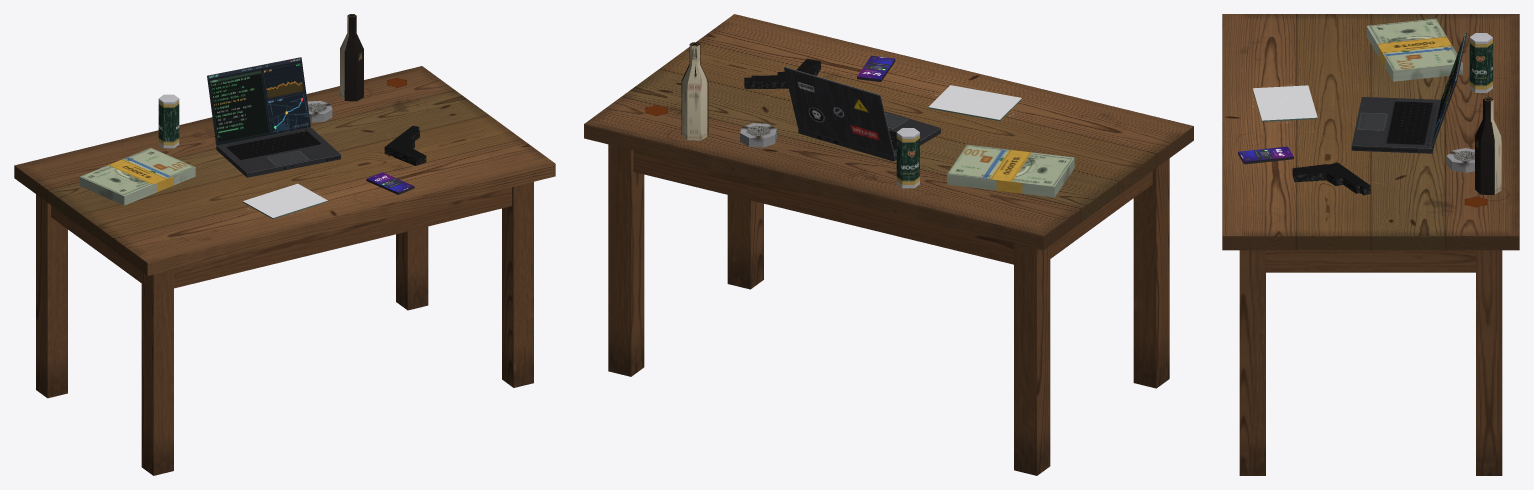
File: pulse_crime_table_lod2.fbx
The picture shows the model from 3 angles, left to right: view 1: azimuth 30°, elevation 25°; view 2: azimuth 150°, elevation 25°; view 3: azimuth 270°, elevation 25°; orthographic projection. The views are drawn at different scales.
Parts seen in each view (by area): view 1: pulse_crime_table_lod2; view 2: pulse_crime_table_lod2; view 3: pulse_crime_table_lod2.
Part boxes in pixels (box(x1,y1,x2,y2)): pulse_crime_table_lod2: box(14, 14, 555, 475); pulse_crime_table_lod2: box(584, 14, 1193, 475); pulse_crime_table_lod2: box(1222, 14, 1519, 475).
Size of the model in its own units: 1.5 by 0.85 by 1.07.
3 materials, 3 textured.
